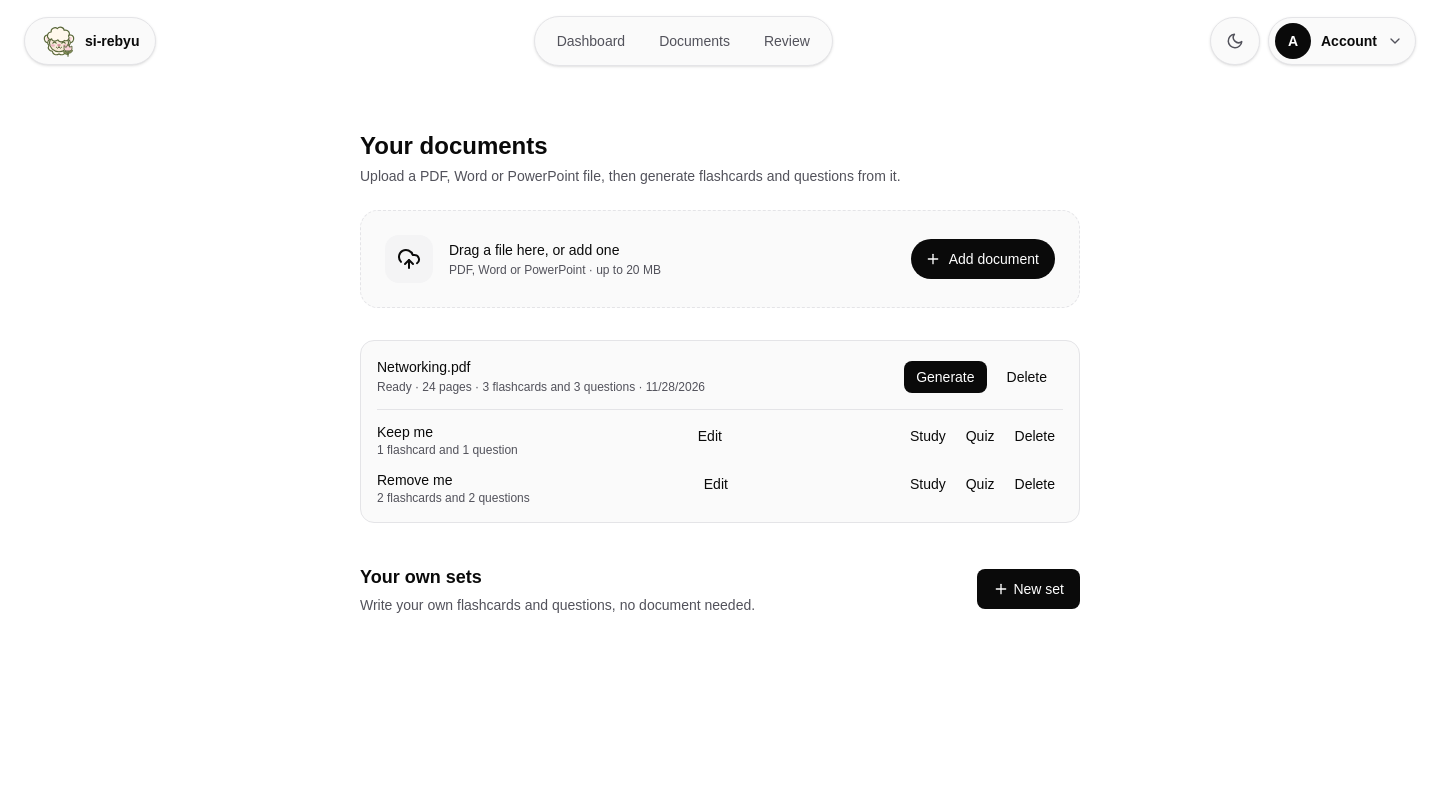
Test: Documents page › deleting a study set calls the API and removes only that set
This screenshot has width=1440, height=810.
Expected: the text "Remove me" is shown, x1=377 y1=472 x2=452 y2=488
Click the button with aria-label "Delete study set Remove me".
click(1035, 484)  # box x1=1006 y1=470 x2=1063 y2=498
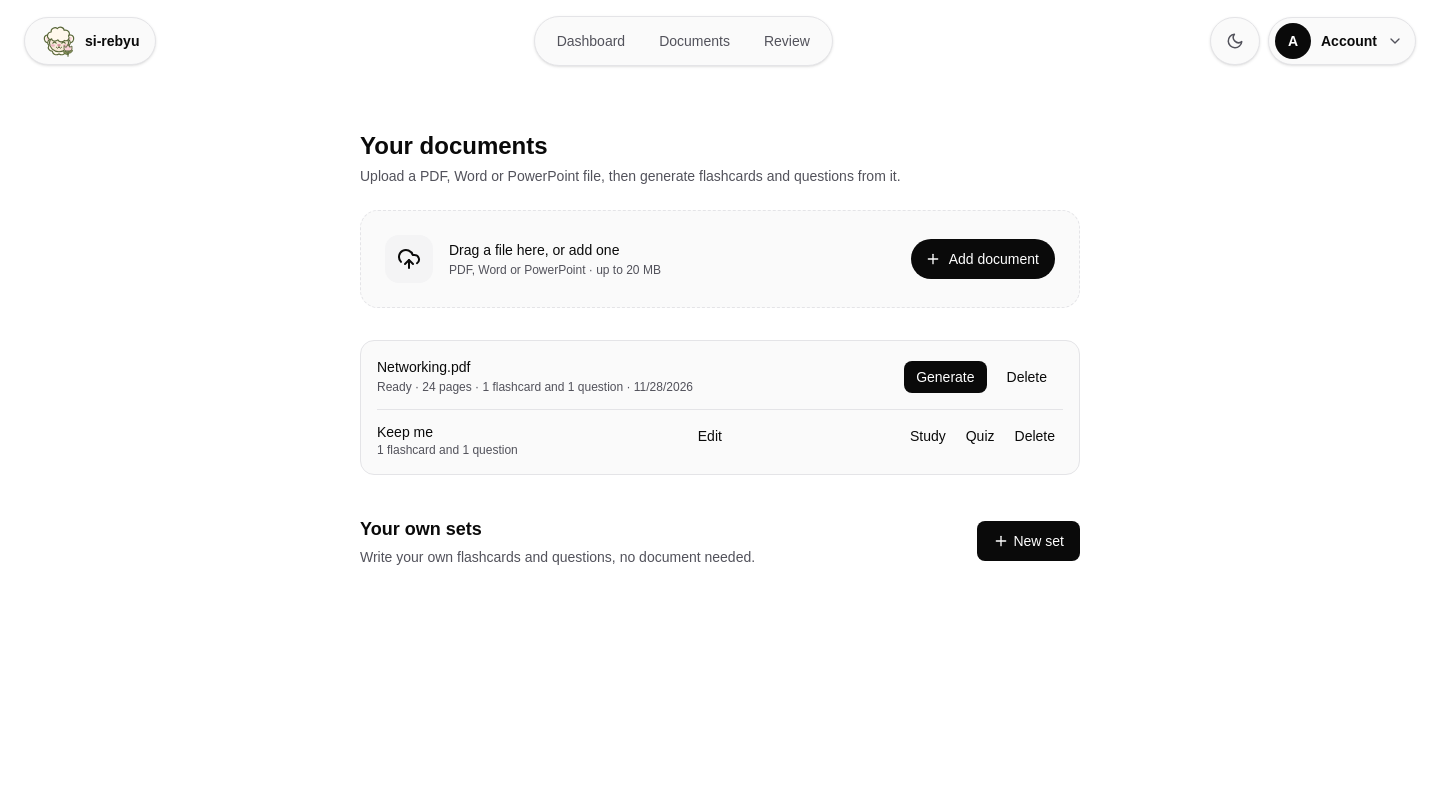
Expected: the text "Keep me" is shown, x1=377 y1=424 x2=433 y2=440
Result: the text "Remove me" is gone
